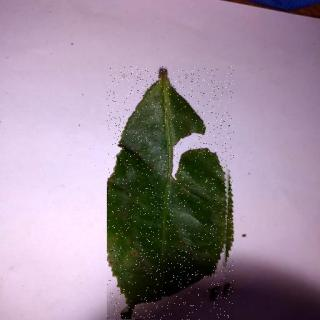Bird Eye Spot: (108, 67, 235, 320)
